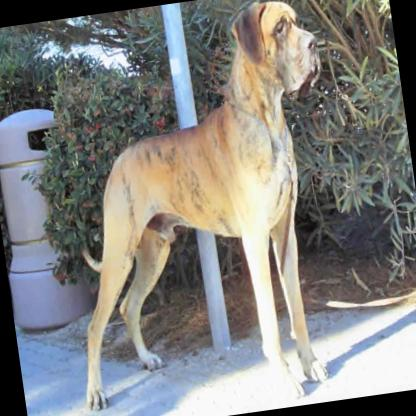Great_Dane: (33, 0, 366, 416)
